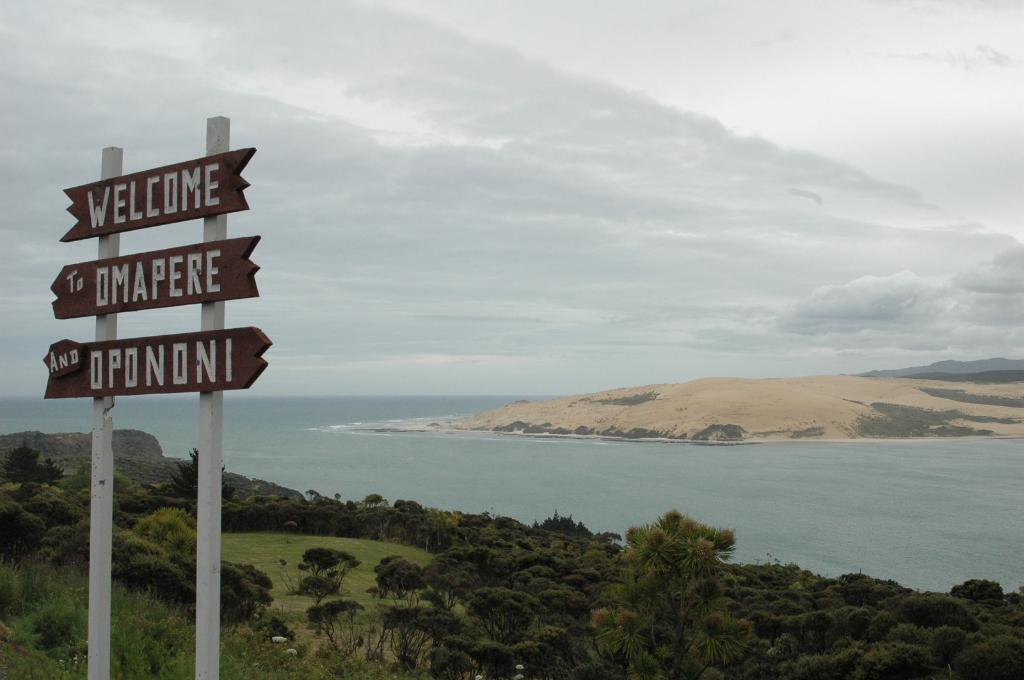Tree: (589, 507, 790, 679), (245, 488, 478, 551), (101, 537, 193, 616), (202, 548, 278, 628), (173, 440, 236, 520), (424, 552, 510, 607), (468, 589, 545, 646), (293, 539, 353, 599), (363, 553, 429, 606), (0, 439, 62, 490), (5, 504, 39, 559)
